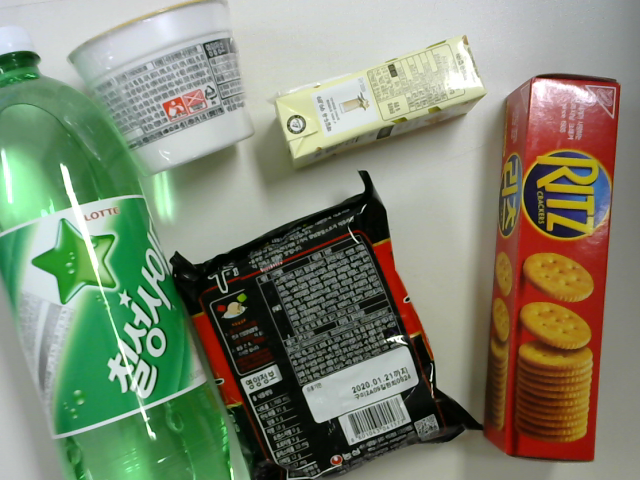99.89_Soymilk: (267, 32, 487, 168)
Chilseong_Cider_1.5L: (1, 30, 236, 480)
Hejangmini: (69, 2, 259, 182)
Ritz_Cracker: (479, 76, 619, 464)
Sinramen_Black: (165, 172, 482, 480)
